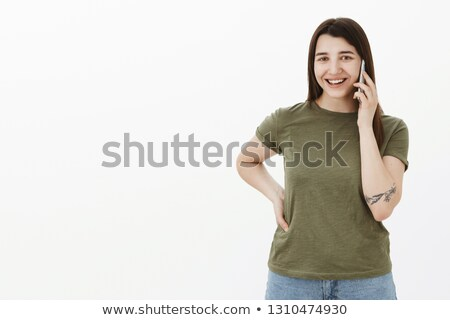phone: (350, 60, 369, 105)
talk: (313, 47, 383, 117)
